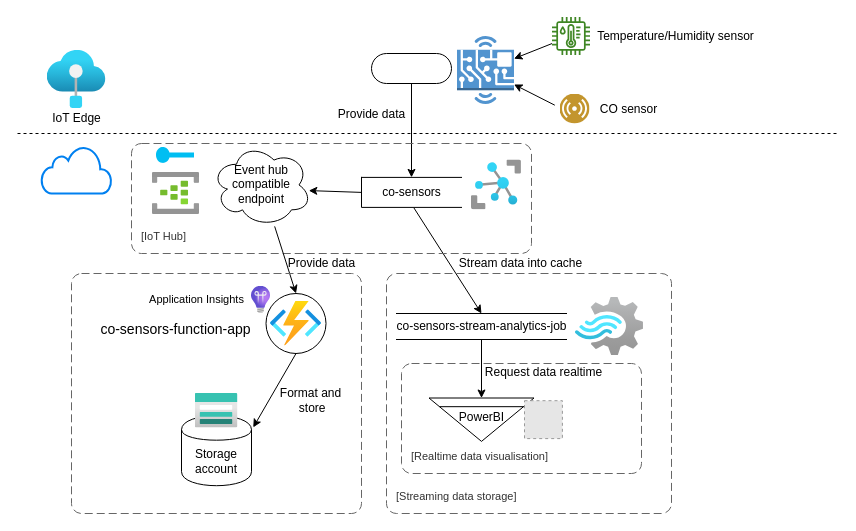
This 856x531 diagram has some shape labels left out. Grey dashed boxes stand in for pictures. The box of each missing label's shape, as (x1, y1, x2, y2) in pixels:
[Persistent data storage]: (70, 272, 362, 514)
Azure: (40, 145, 112, 194)
IoT device: (370, 52, 452, 84)
